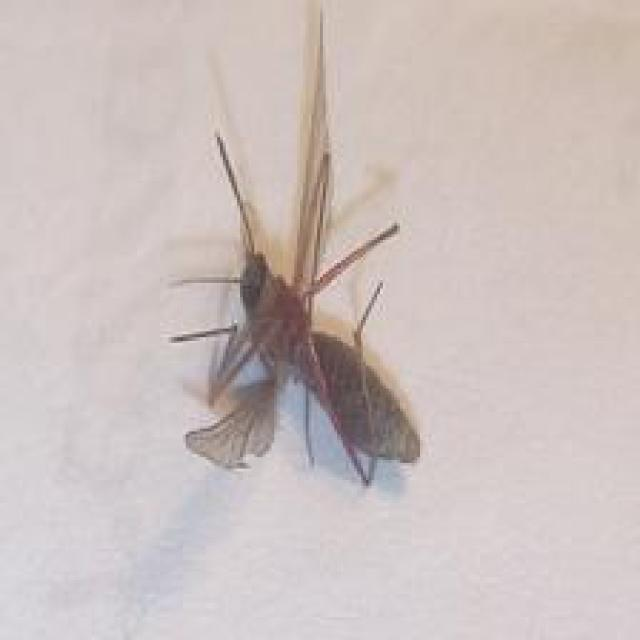Culex: (166, 0, 423, 486)
